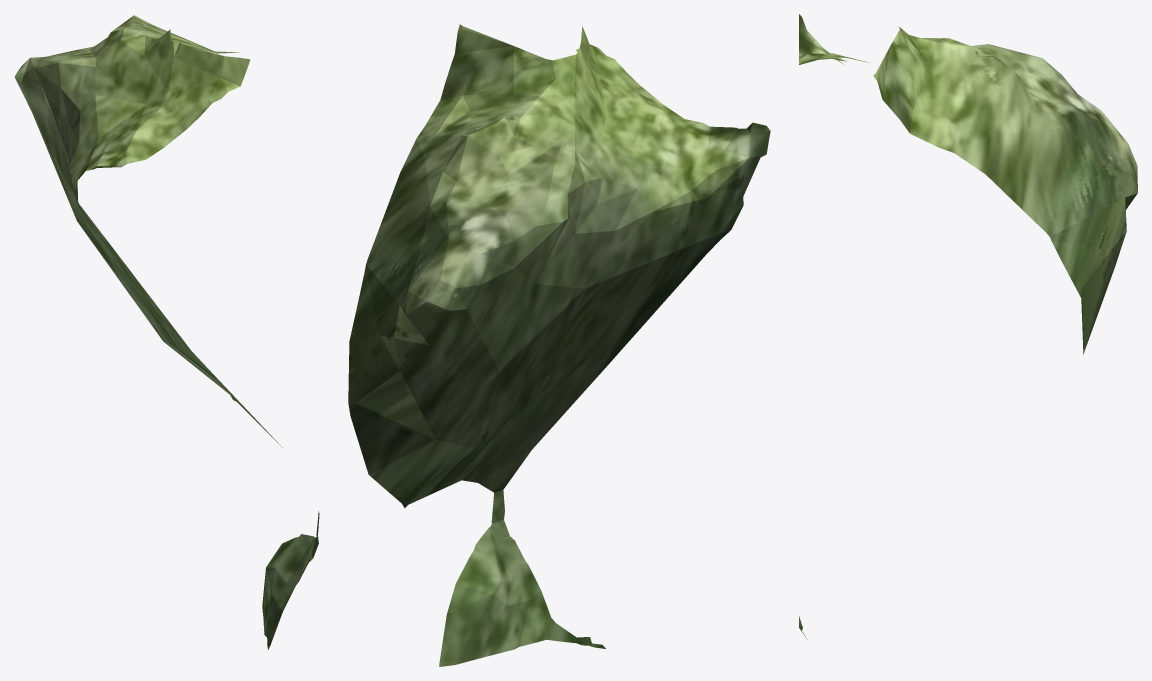
3 renders of one model, left to right at view 1: azimuth 30°, elevation 25°; view 2: azimuth 150°, elevation 25°; view 3: azimuth 270°, elevation 25°, orthographic. The views are drawn at different scales.
Bounding box in the file's own units: 1.34 × 2.95 × 1.53.
Materials: 2 (2 with a texture image).
